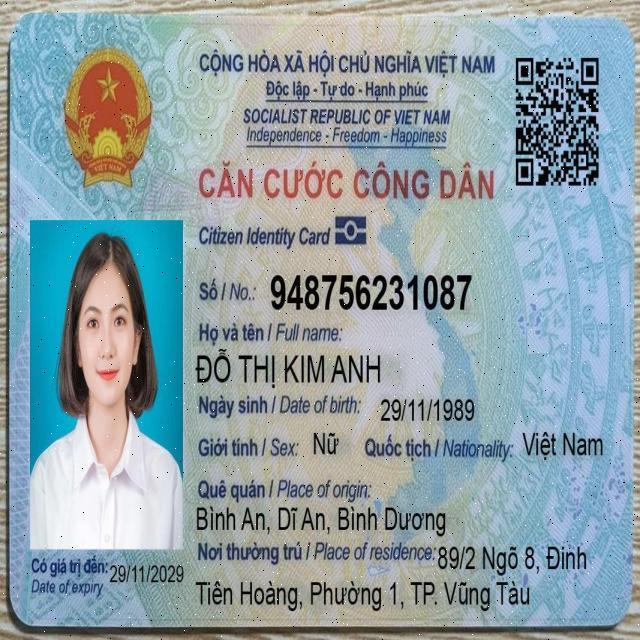current_place: (191, 574, 534, 615), (436, 541, 589, 579)
dob: (377, 392, 478, 430)
expire_date: (107, 561, 186, 588)
gender: (311, 428, 342, 462)
id: (266, 266, 477, 319)
name: (193, 344, 385, 392)
nationality: (519, 427, 606, 464)
origin_place: (194, 499, 450, 541)
qr: (511, 49, 604, 192)
